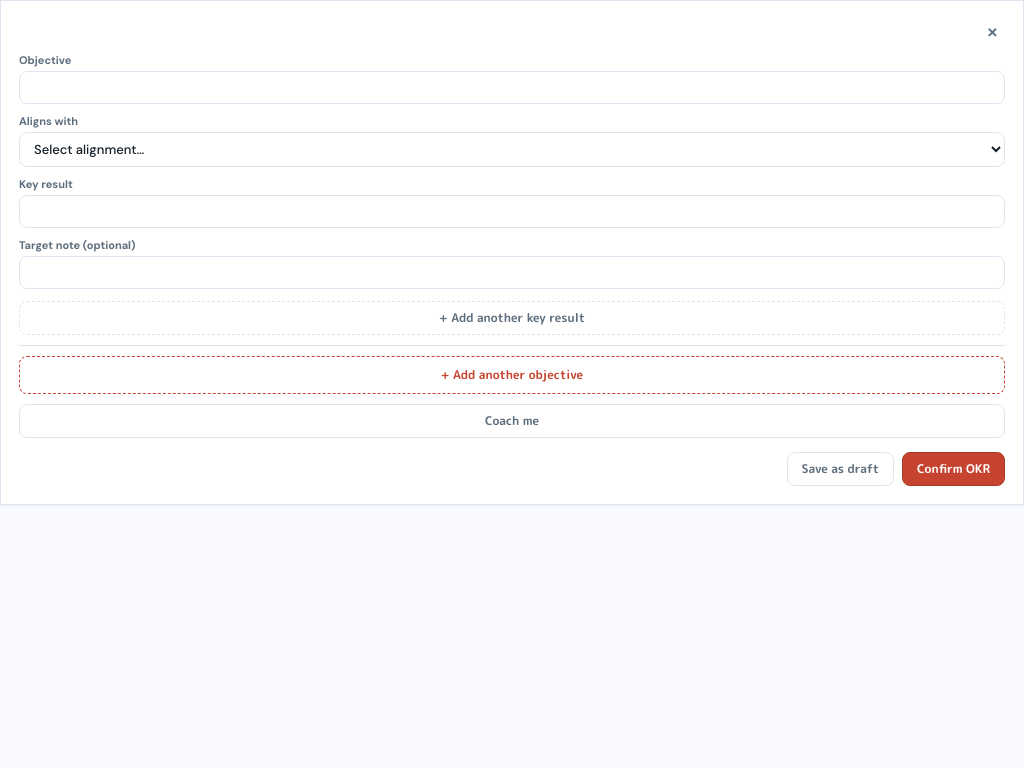
Test case: OkrDialog › shows error message on supabase failure
In the field labelled "Objective": {"x": 512, "y": 88} [19,71,1005,104], type "Grow revenue"
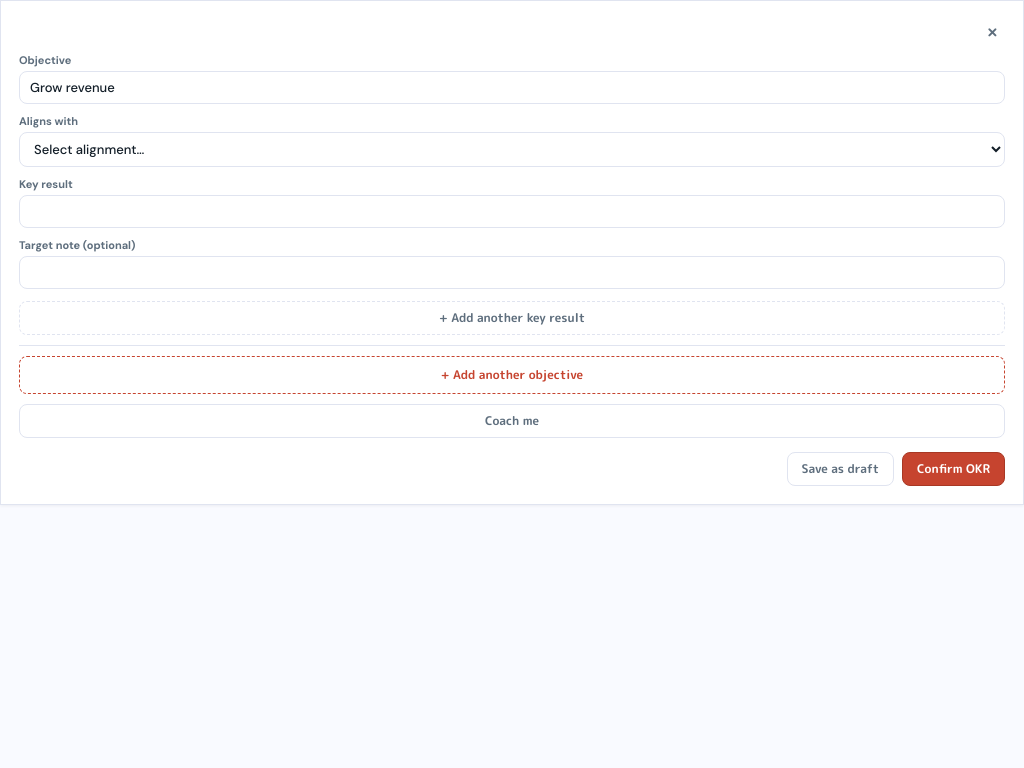
Select "Expand into new markets" in the dropdown labelled "Aligns with": {"x": 512, "y": 150} [19,132,1005,167]
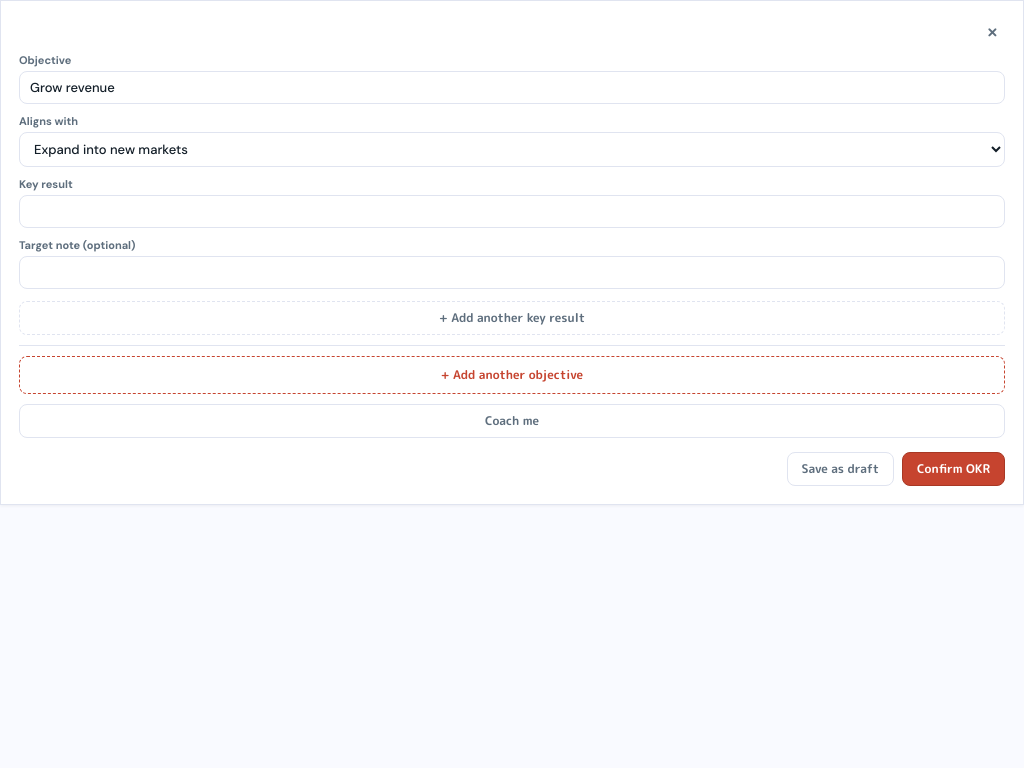
In the field labelled "Key result": {"x": 512, "y": 212} [19,195,1005,228], type "Ship v1"
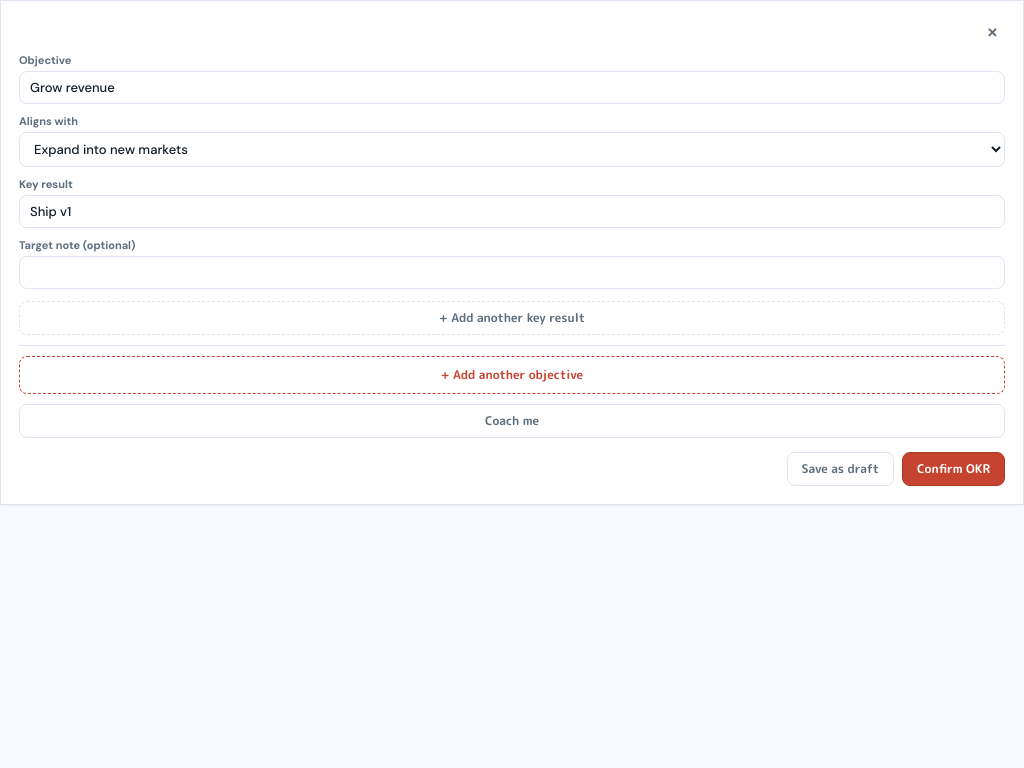
Click the button "Save as draft": {"x": 840, "y": 469} [786,452,894,486]
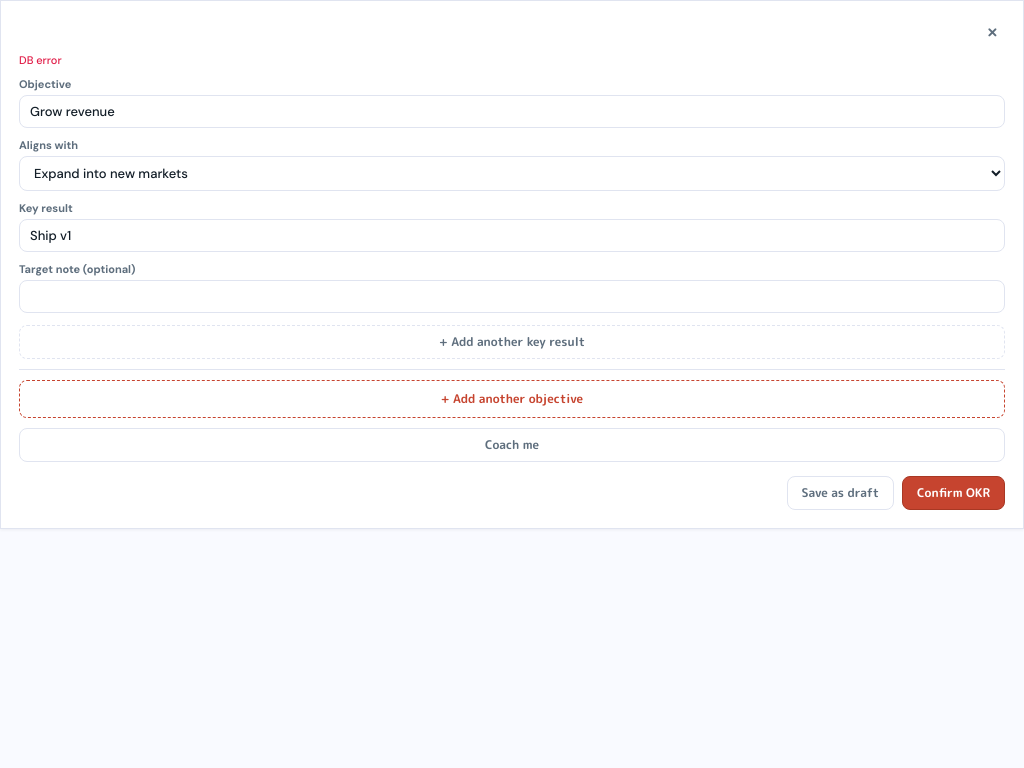
Expected: the message reads "DB error", [19,53,62,67]
